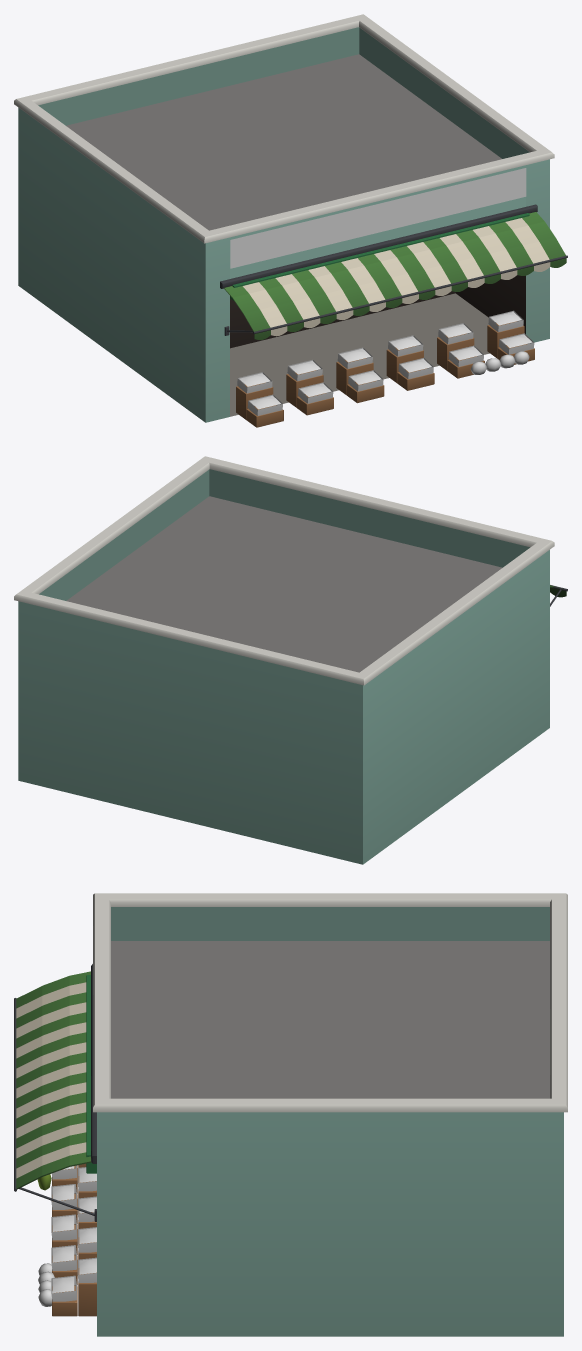
The model's file is FruteriaMIA.fbx.
The picture shows the model from 3 angles, top to bottom: view 1: azimuth 30°, elevation 25°; view 2: azimuth 150°, elevation 25°; view 3: azimuth 270°, elevation 25°; orthographic projection. The views are drawn at different scales.
Parts seen in each view (by area): view 1: FruteriaMIA; view 2: FruteriaMIA; view 3: FruteriaMIA.
Boxes of the visible parts, box(x1,y1,x2,y2) form: FruteriaMIA: box(14, 14, 567, 427); FruteriaMIA: box(14, 456, 567, 864); FruteriaMIA: box(14, 893, 567, 1336).
Bounding box in the file's own units: 8.64 × 4.4 × 9.49.
